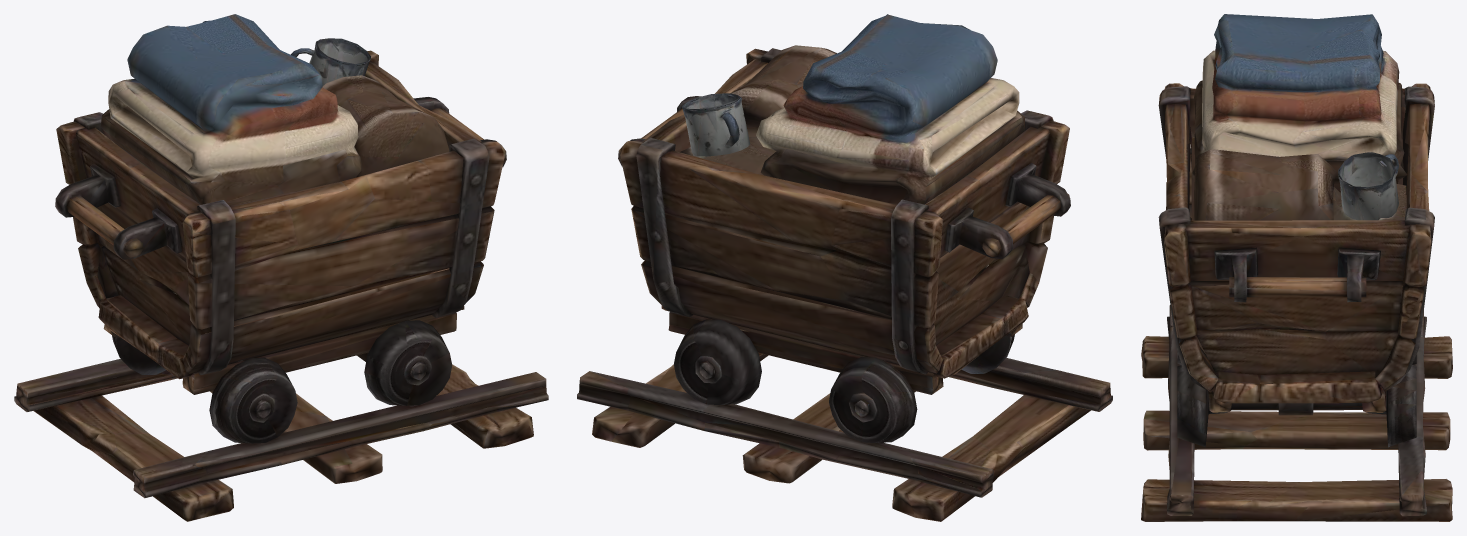
Rendered from cart.glb.
3 renders of one model, left to right at view 1: azimuth 30°, elevation 25°; view 2: azimuth 150°, elevation 25°; view 3: azimuth 270°, elevation 25°, orthographic. The views are drawn at different scales.
Size of the model in its own units: 1.08 by 1 by 0.7393.
1 material, 1 textured.
